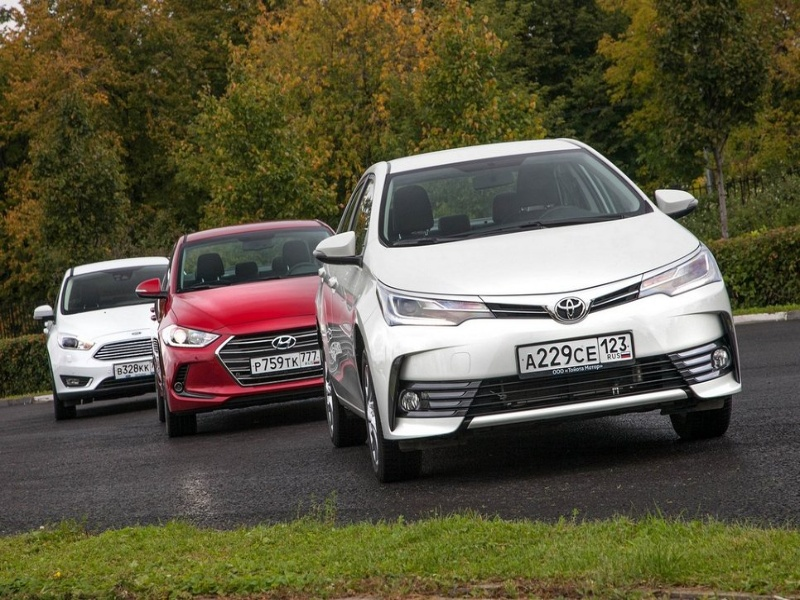car: (314, 137, 742, 482), (135, 219, 336, 440), (33, 256, 169, 420)
plate: (516, 331, 633, 375), (252, 350, 321, 374), (114, 359, 154, 377)
